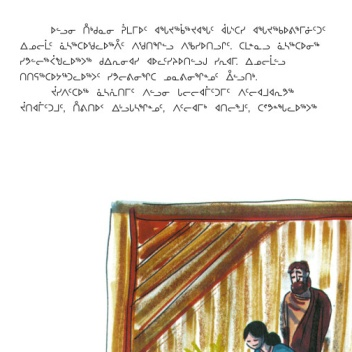inuktitut: (42, 18, 331, 36), (15, 35, 321, 51), (16, 98, 321, 113), (15, 51, 289, 67), (48, 82, 297, 97), (18, 67, 260, 82)
